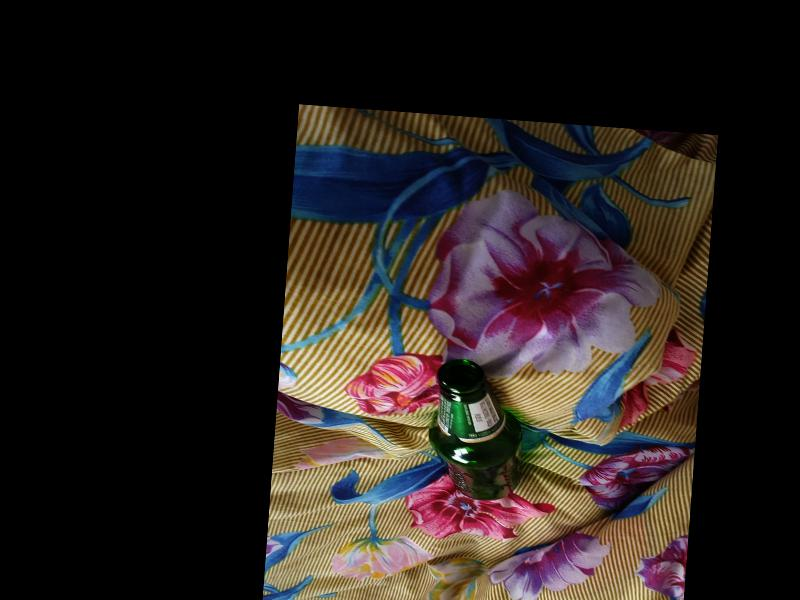Beer: (424, 357, 524, 501)
